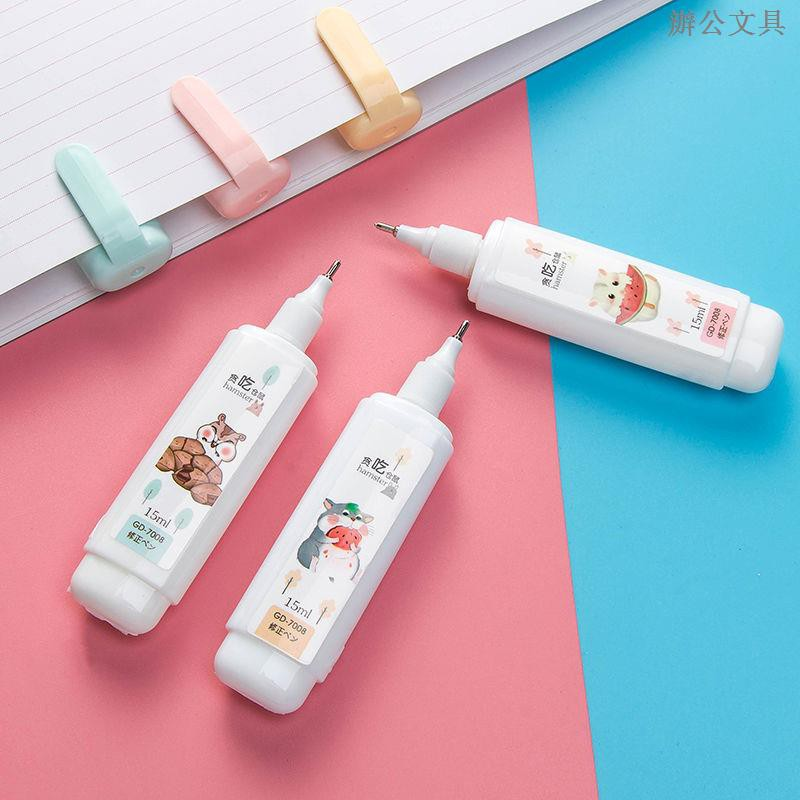Correction_fluid: (62, 256, 346, 639), (209, 318, 470, 721), (369, 212, 793, 401)
